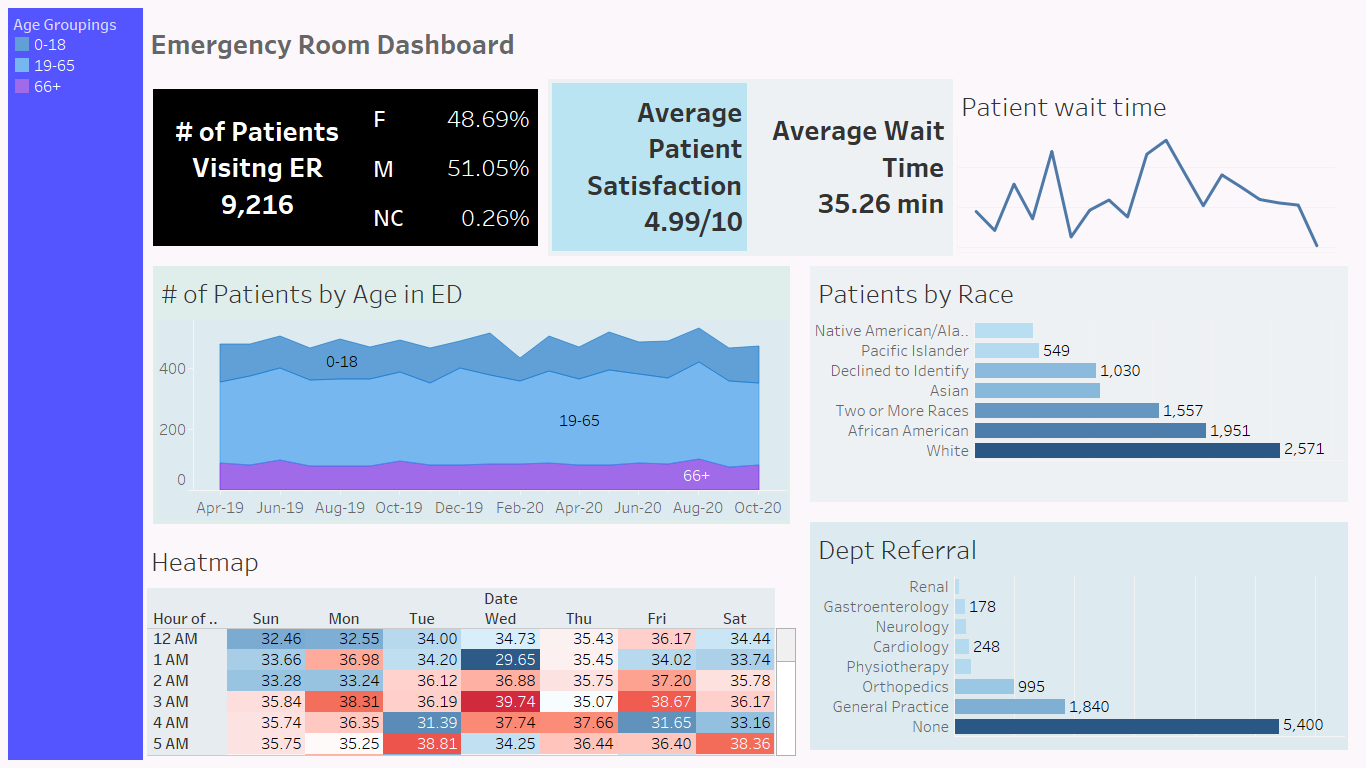

The page's visual inventory and layout, read from the dashboard file:
{"tool":"tableau","page":{"name":"Dashboard 1","canvas":[1366,768],"ordinal":0},"visuals":[{"type":"legend","title":"# patients by age ","param":"[federated.0x7oq8o04r6m1c16gfbdc1lduwge].[none:Calculation_3284531571859173377:n","box":[8,8,135,93]},{"type":"text","box":[143,8,607.5,71]},{"type":"worksheet","title":"Avg satisfaction","mark":"Automatic","box":[548,79,202.5,177]},{"type":"worksheet","title":"Average wait time","mark":"Automatic","box":[750.5,79,202.5,177]},{"type":"worksheet","title":"Patient wait time ","mark":"Automatic","rows":["patient_waittime"],"cols":["date"],"box":[953,79,386,177]},{"type":"worksheet","title":" # Patients visiting ER","mark":"Automatic","box":[153,89,210,157]},{"type":"worksheet","title":"Gender","mark":"Automatic","rows":["patient_gender"],"box":[363,89,175,157]},{"type":"worksheet","title":"# patients by age ","mark":"Area","rows":["patient_id"],"cols":["date"],"box":[153,266,637,258]},{"type":"worksheet","title":"# patients by race","mark":"Automatic","rows":["patient_race"],"cols":["patient_id"],"box":[810,266,538,236]},{"type":"worksheet","title":"Referral","mark":"Automatic","rows":["department_referral"],"cols":["patient_id"],"box":[810,522,538,228]},{"type":"worksheet","title":"Heatmap","mark":"Square","rows":["date"],"cols":["date"],"box":[153,544,637,206]}]}

Visuals, with their boxes in screenshot pixels (x1, y1, x2, y2), scaled from the page's 1366x768 canvas onto the 1366x768 screenshot:
"# patients by age " legend: box(8, 8, 143, 101)
text: box(143, 8, 750, 79)
"Avg satisfaction" worksheet: box(548, 79, 750, 256)
"Average wait time" worksheet: box(750, 79, 953, 256)
"Patient wait time " worksheet: box(953, 79, 1339, 256)
" # Patients visiting ER" worksheet: box(153, 89, 363, 246)
"Gender" worksheet: box(363, 89, 538, 246)
"# patients by age " worksheet (Area marks): box(153, 266, 790, 524)
"# patients by race" worksheet: box(810, 266, 1348, 502)
"Referral" worksheet: box(810, 522, 1348, 750)
"Heatmap" worksheet (Square marks): box(153, 544, 790, 750)
